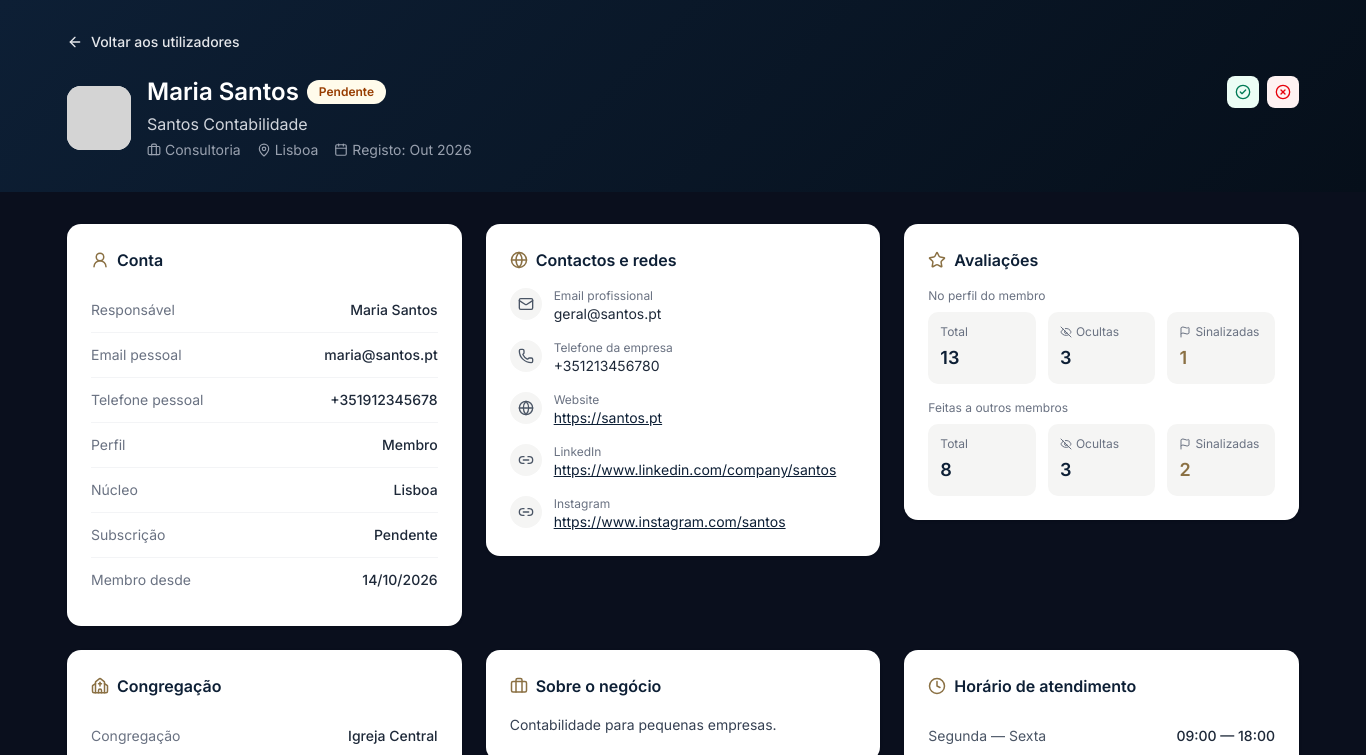
Test: Detalhe do membro › aprova um pendente no detalhe e mostra o estado da subscrição novo depois de recarregar
Expected: the button named "Recusar Maria Santos" is shown, [1267, 76, 1299, 108]
Click the button named "Aprovar Maria Santos".
click(1243, 92)  # box [1227, 76, 1259, 108]
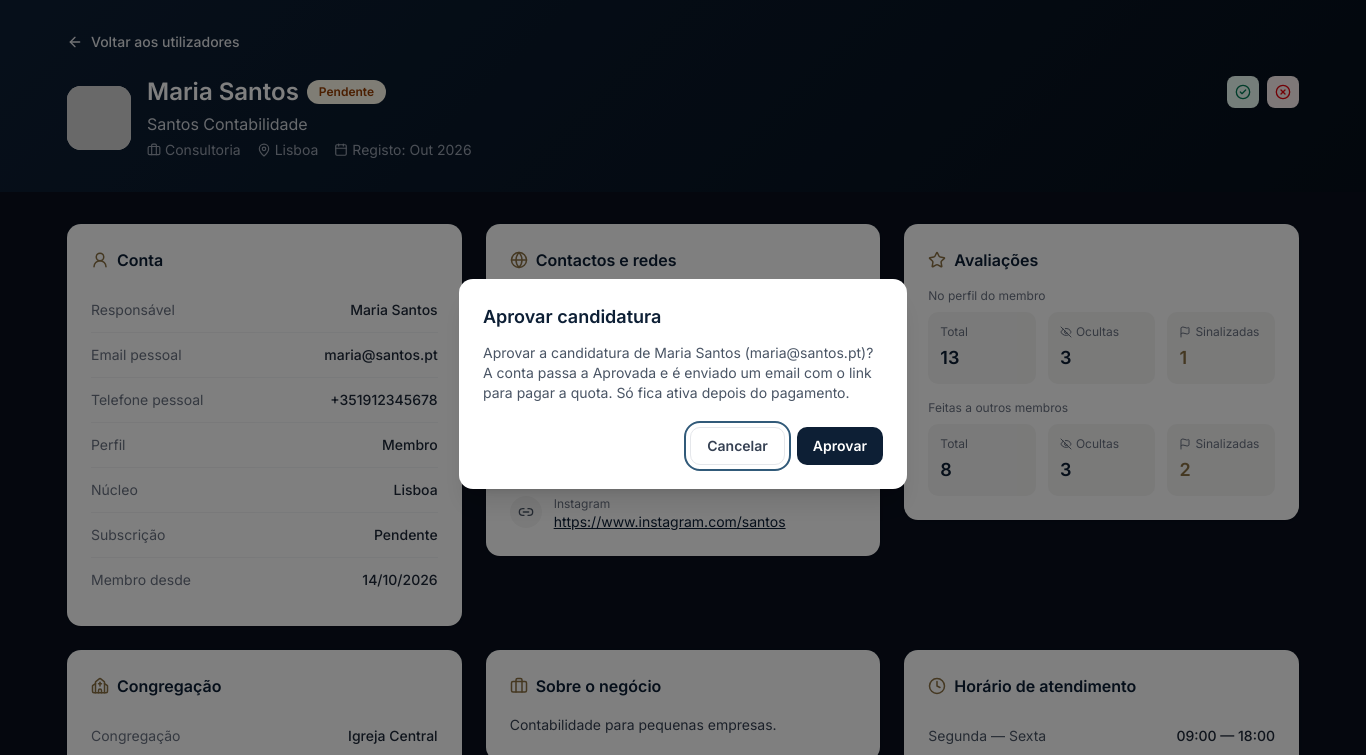
Now the dialog "Aprovar candidatura" is shown, box [459, 279, 907, 489]
Click the button "Aprovar".
click(840, 446)  # box [797, 427, 883, 465]
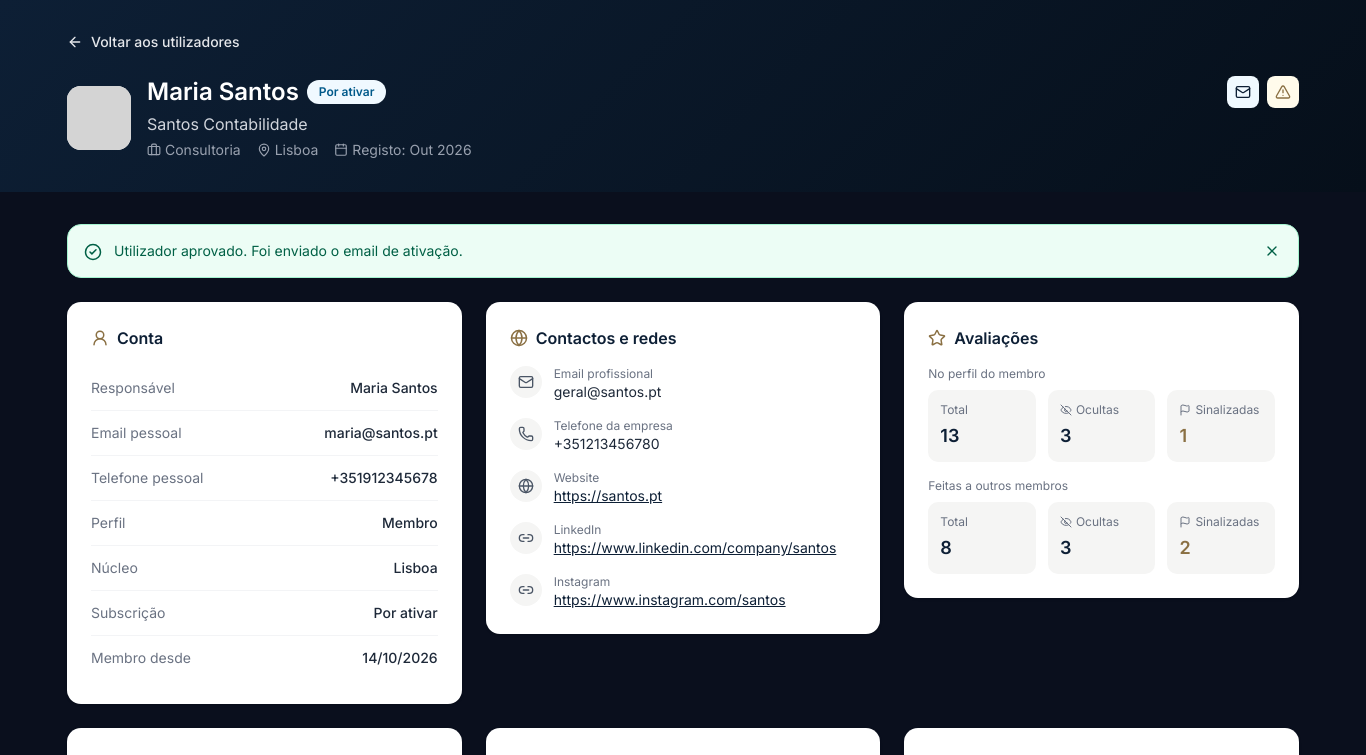
Now the text "Utilizador aprovado. Foi enviado o email de ativação." is shown, box [67, 224, 1299, 278]
Now the button named "Bloquear Maria Santos" is shown, box [1267, 76, 1299, 108]
Now the text "Por ativar" below "Voltar aos utilizadores" is shown, box [319, 84, 374, 99]
